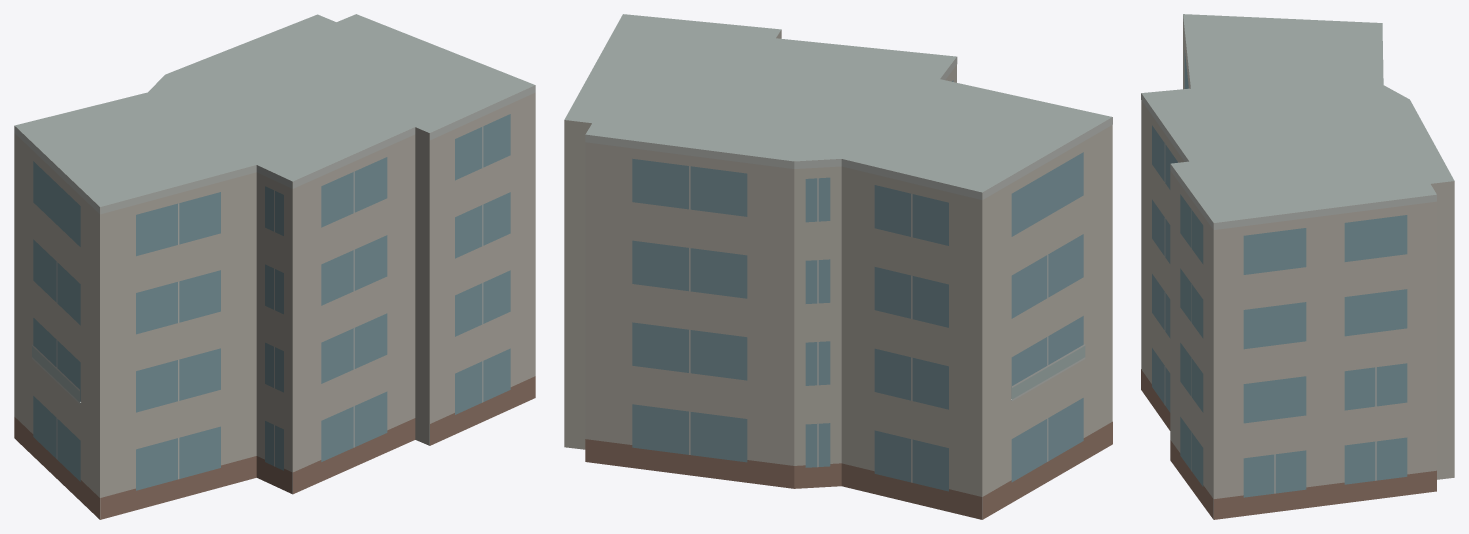
File: survey-upis-32670576.glb
The picture shows the model from 3 angles, left to right: view 1: azimuth 30°, elevation 25°; view 2: azimuth 150°, elevation 25°; view 3: azimuth 270°, elevation 25°; orthographic projection. The views are drawn at different scales.
Parts seen in each view (by area): view 1: survey-upis-32670576.tmp; view 2: survey-upis-32670576.tmp; view 3: survey-upis-32670576.tmp.
Part boxes in pixels (x1,y1,x2,y2): survey-upis-32670576.tmp: [14, 14, 535, 519]; survey-upis-32670576.tmp: [564, 14, 1112, 519]; survey-upis-32670576.tmp: [1141, 14, 1454, 519].
Size of the model in its own units: 15.73 by 10.4 by 9.97.
